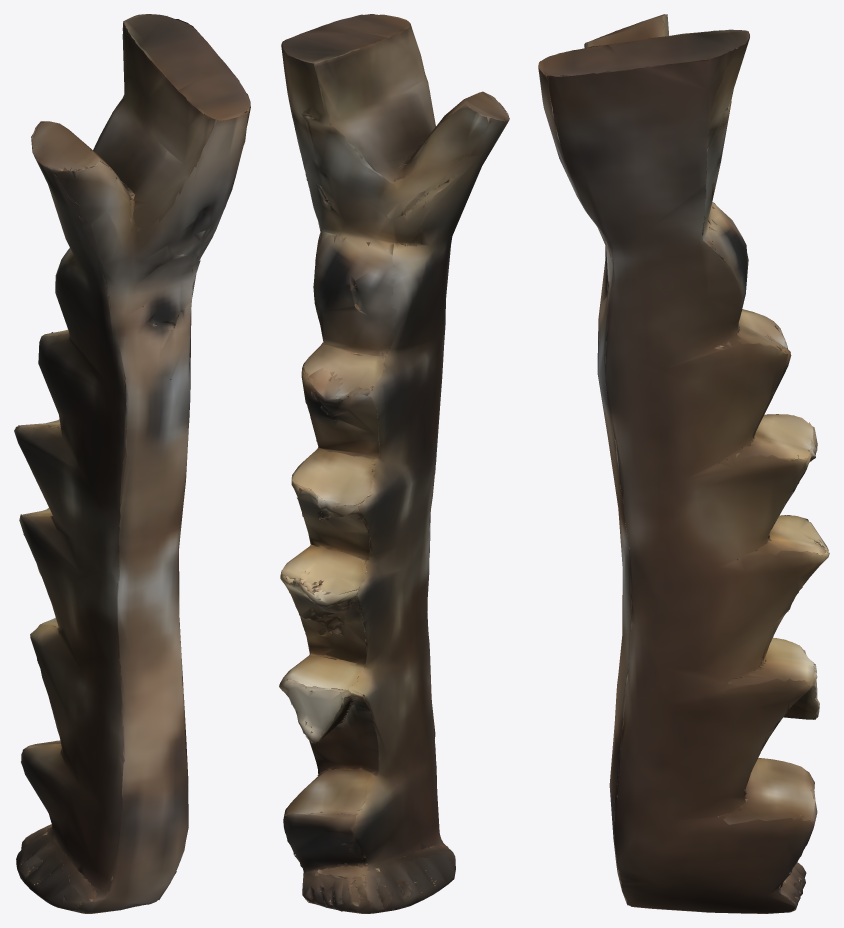
The model's file is pilier_4.glb.
3 renders of one model, left to right at view 1: azimuth 30°, elevation 25°; view 2: azimuth 150°, elevation 25°; view 3: azimuth 270°, elevation 25°, orthographic. The views are drawn at different scales.
Visible parts, largest first — view 1: Mesh_0.006; view 2: Mesh_0.006; view 3: Mesh_0.006.
Boxes of the visible parts, x1=… form: Mesh_0.006: x1=14, y1=14, x2=250, y2=913; Mesh_0.006: x1=279, y1=14, x2=509, y2=913; Mesh_0.006: x1=538, y1=14, x2=829, y2=913.
Size of the model in its own units: 0.2633 by 1.1 by 0.3253.
1 material, 1 textured.
